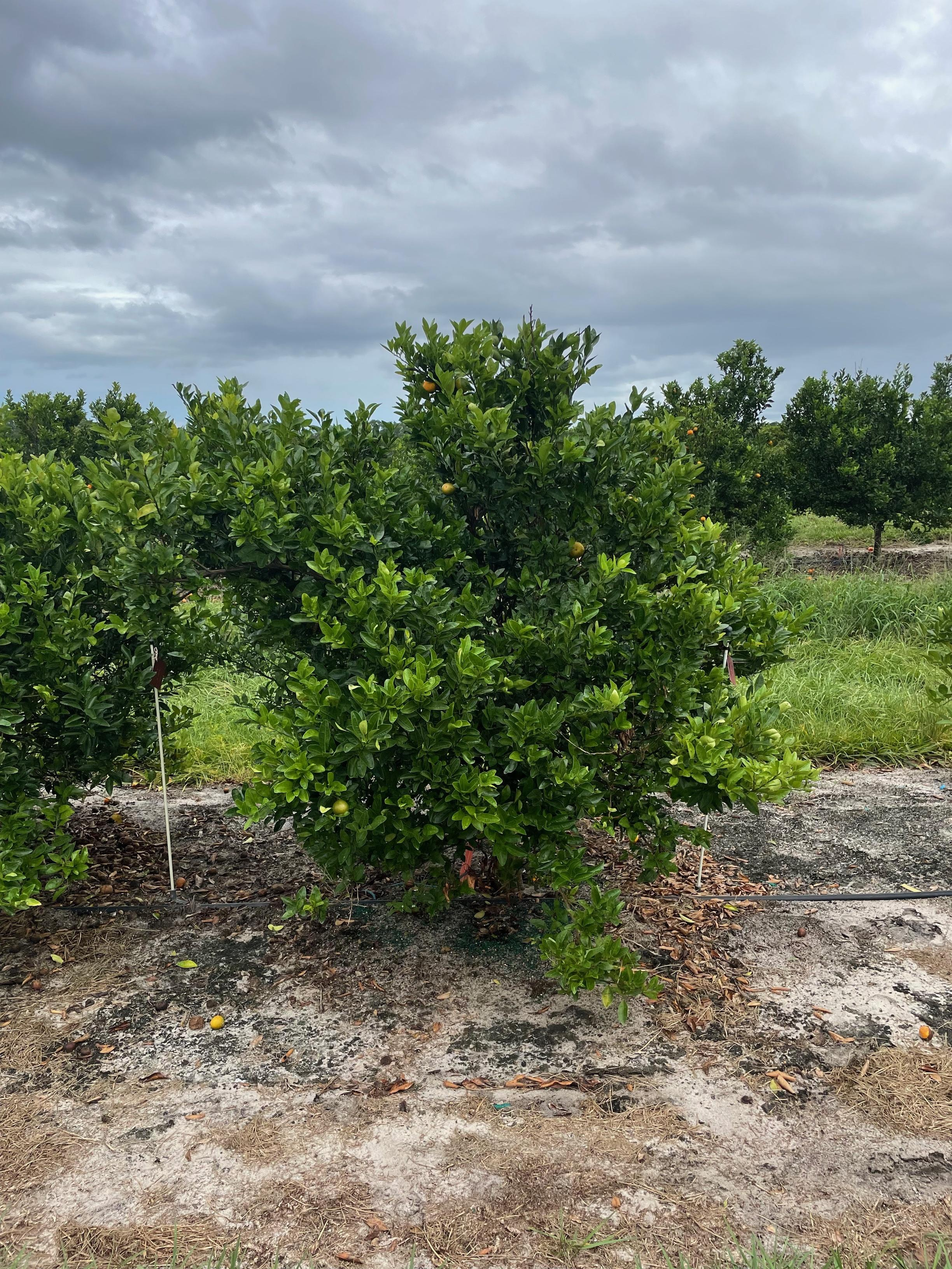fruit_on_ground: (565, 539, 587, 560), (329, 797, 351, 818), (420, 376, 440, 395), (452, 376, 472, 393), (440, 480, 458, 498), (686, 427, 694, 437), (700, 514, 707, 522), (754, 472, 762, 479)
fruit_on_tree: (916, 1021, 934, 1041), (208, 1012, 225, 1030), (97, 881, 114, 896), (28, 977, 43, 991), (173, 874, 187, 888), (102, 795, 113, 804)
